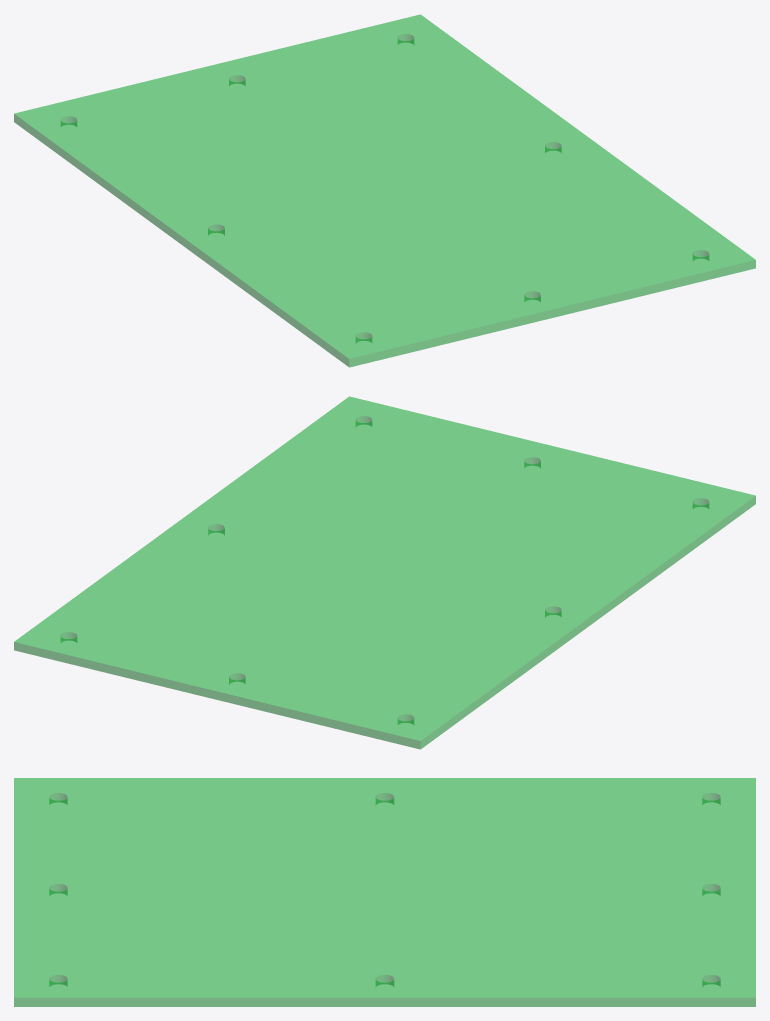
The model's file is Pcb.glb.
3 views of the same model, one above another, from view 1: azimuth 30°, elevation 25°; view 2: azimuth 150°, elevation 25°; view 3: azimuth 270°, elevation 25° (orthographic). The views are drawn at different scales.
Bounding box in the file's own units: 0.07 × 0.0014 × 0.1.
